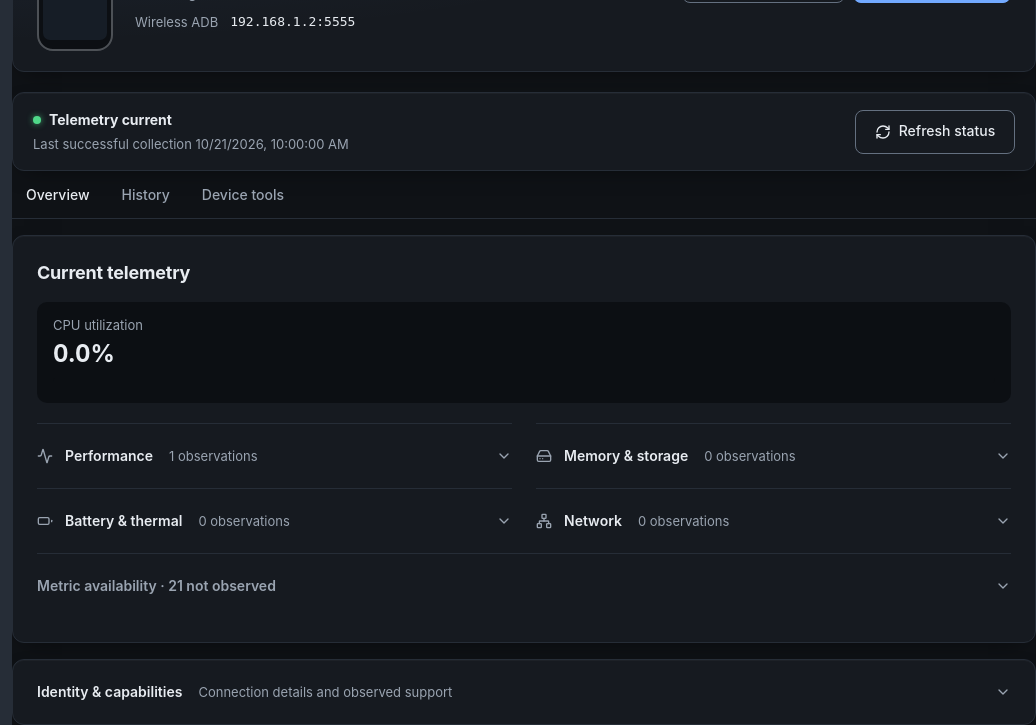
Test: device workspace › prioritizes identity, freshness, real zeros and grouped availability
(page scrolled)
Expected: the text "Telemetry current" is shown, [49,109,172,130]
Expected: the text "0.0%" is shown, [53,338,995,383]
Click the button "Metric availability · 21 not observed": (156, 585) [37,554,1011,618]
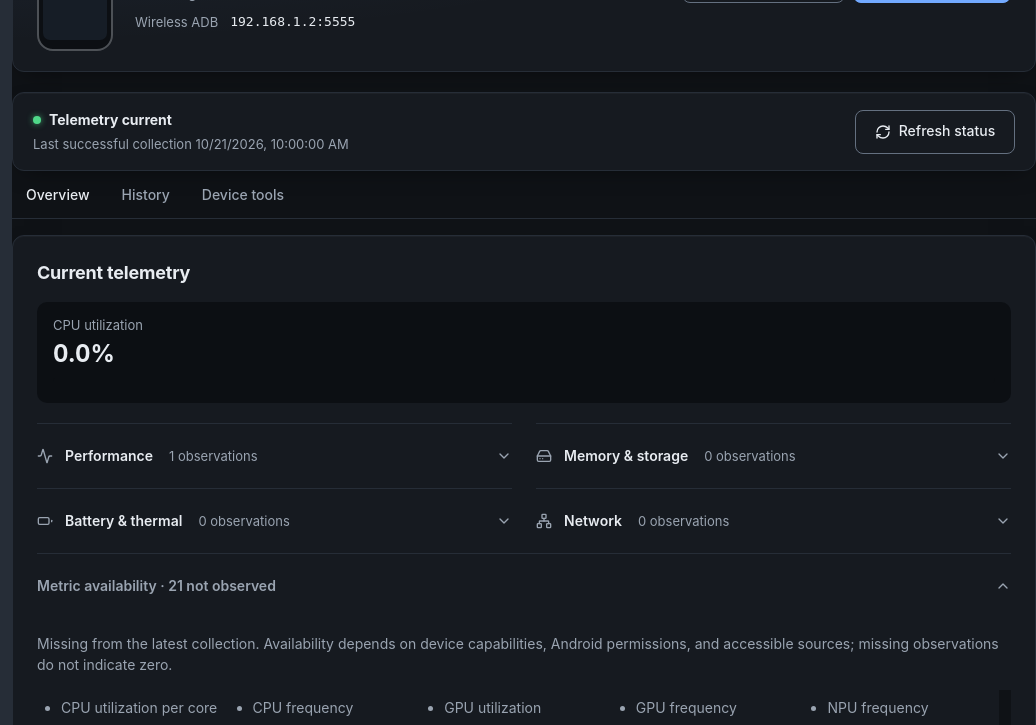
Expected: the text "Last successful collection 10/21/2026, 10:00:00 AM" is shown once, [33,134,349,154]
Expected: the button "Metric availability · 21 not observed" is expanded, [37,554,1011,618]
Expected: the list item "GPU utilization" is shown, [444,699,541,716]
